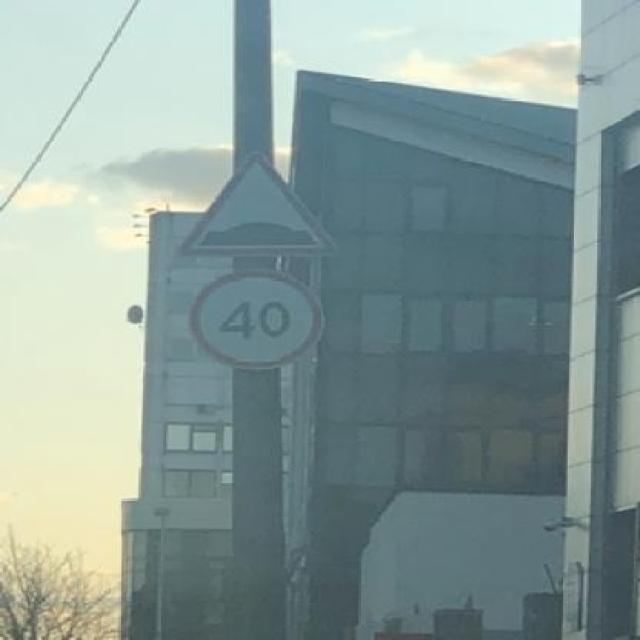forb_speed_over_40: (189, 268, 325, 369)
